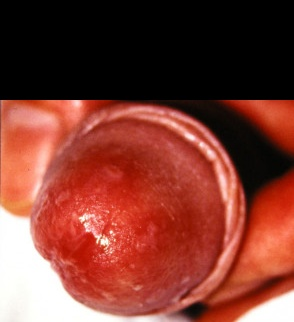SJS-TEN: (13, 84, 270, 322)
